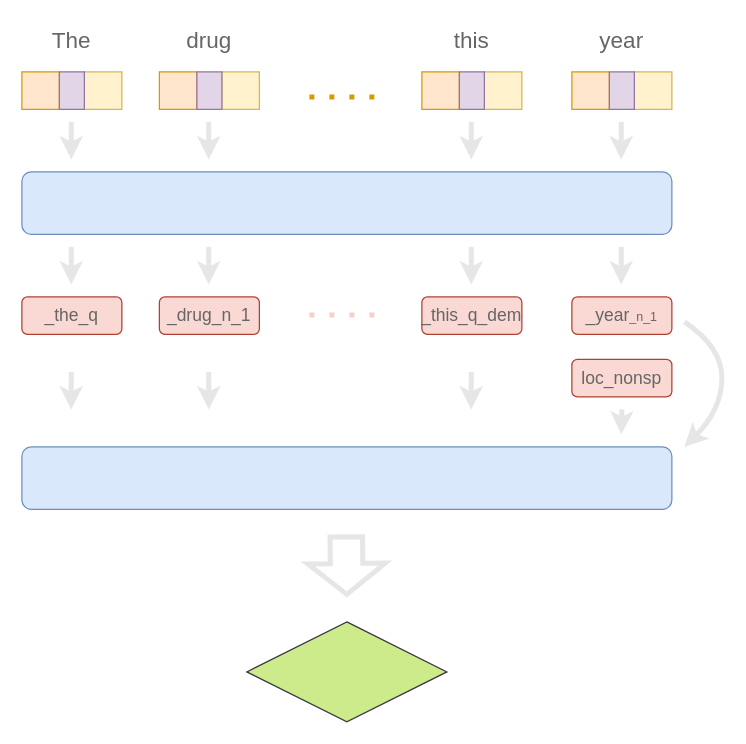
The diagram is 746 pixels wide and 744 high, and some of its shapes have lost their labels. Here are the shapes that lost their labels. From the top down, the centre of each, then its label:
At point 346,202: "Bi-LSTM".
At point 346,477: "Dependency Identification".
At point 346,671: "EDS Graph".
